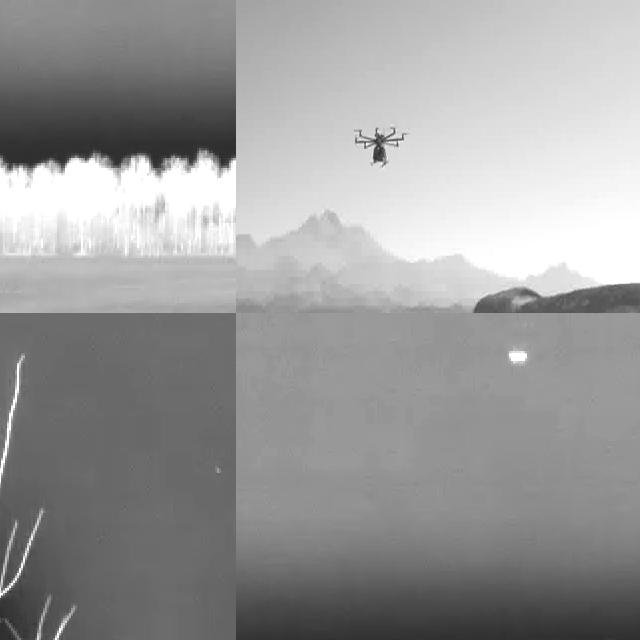0: (208, 457, 232, 489)
1: (501, 345, 539, 377)
drone: (357, 118, 409, 172)
